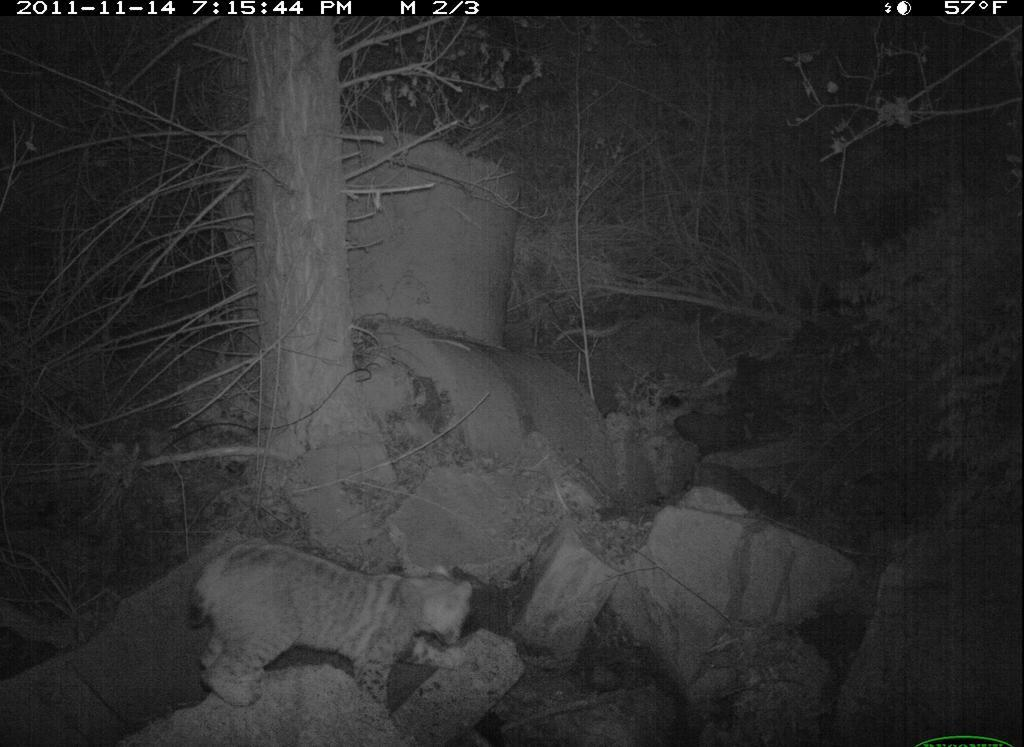bobcat: (185, 543, 472, 710)
